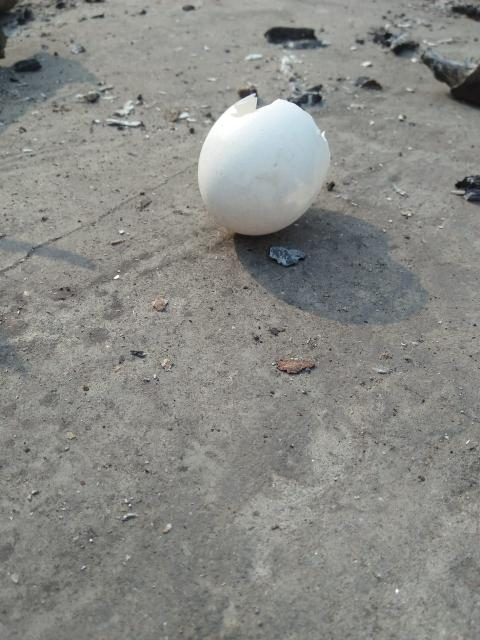Roto: (196, 92, 331, 237)
